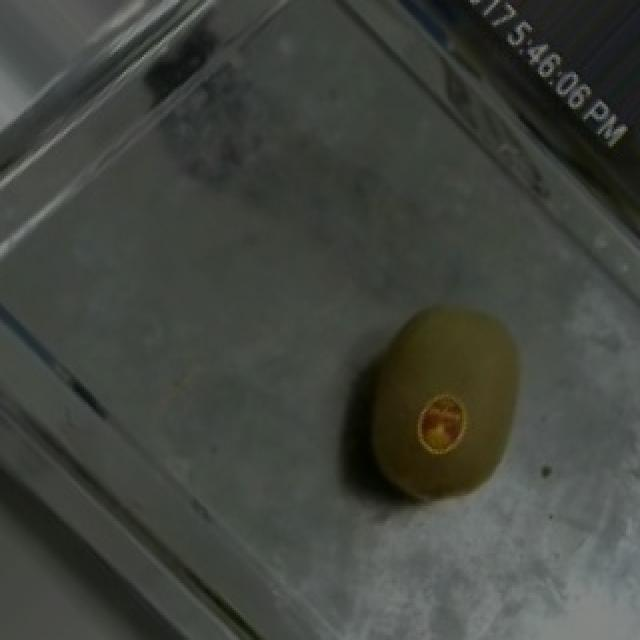Fruit: (304, 265, 570, 536)
